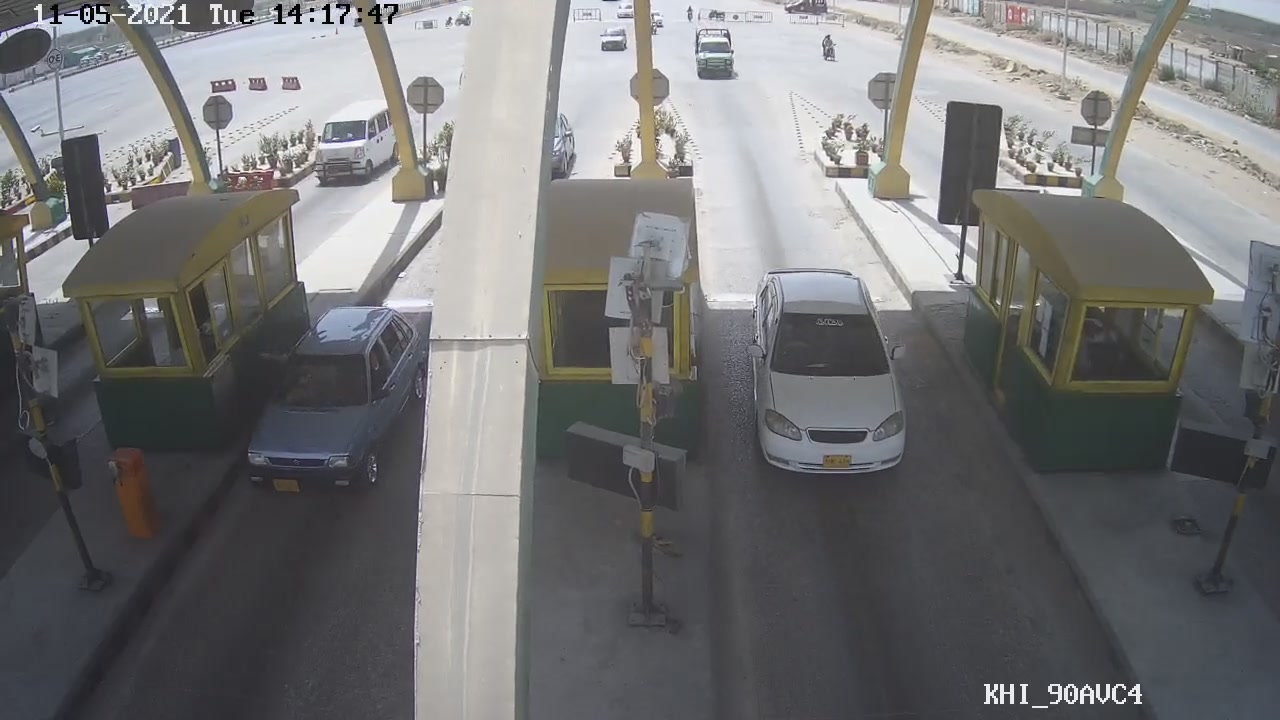F1: (733, 262, 917, 483)
